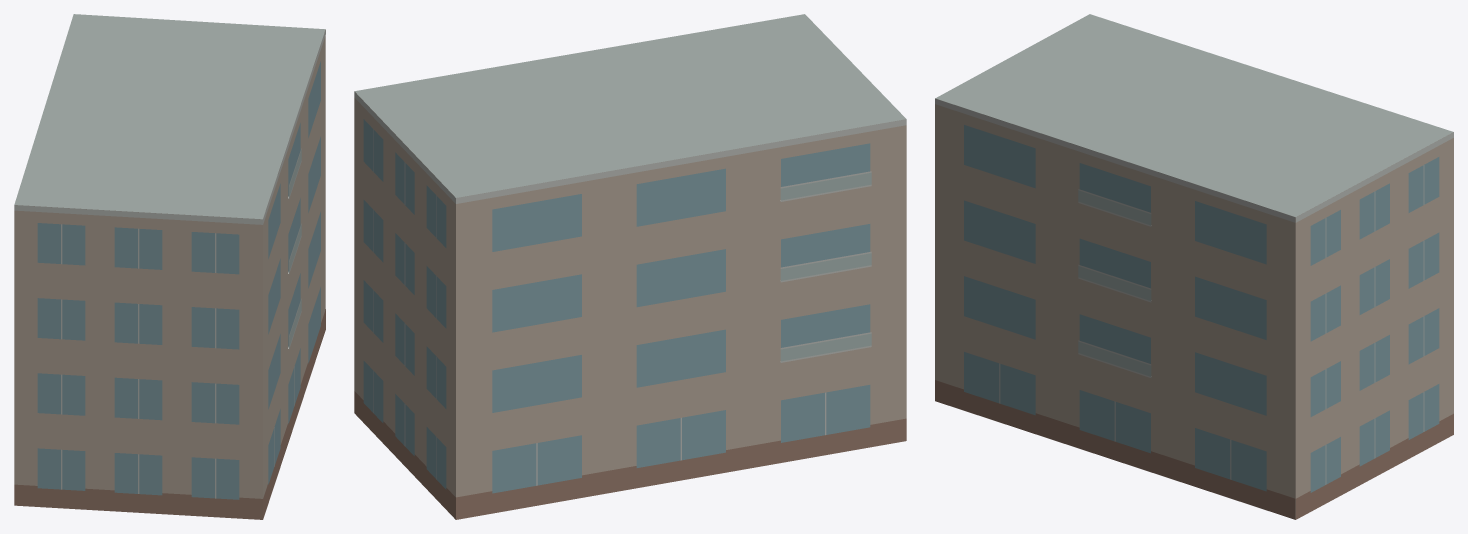
File: survey-upis-32885547.glb
The picture shows the model from 3 angles, left to right: view 1: azimuth 30°, elevation 25°; view 2: azimuth 150°, elevation 25°; view 3: azimuth 270°, elevation 25°; orthographic projection. The views are drawn at different scales.
Parts seen in each view (by area): view 1: survey-upis-32885547.tmp; view 2: survey-upis-32885547.tmp; view 3: survey-upis-32885547.tmp.
Part boxes in pixels (x1,y1,x2,y2): survey-upis-32885547.tmp: (14, 14, 325, 519); survey-upis-32885547.tmp: (354, 14, 906, 519); survey-upis-32885547.tmp: (935, 14, 1453, 519).
Bounding box in the file's own units: 18.73 × 13 × 20.2.
